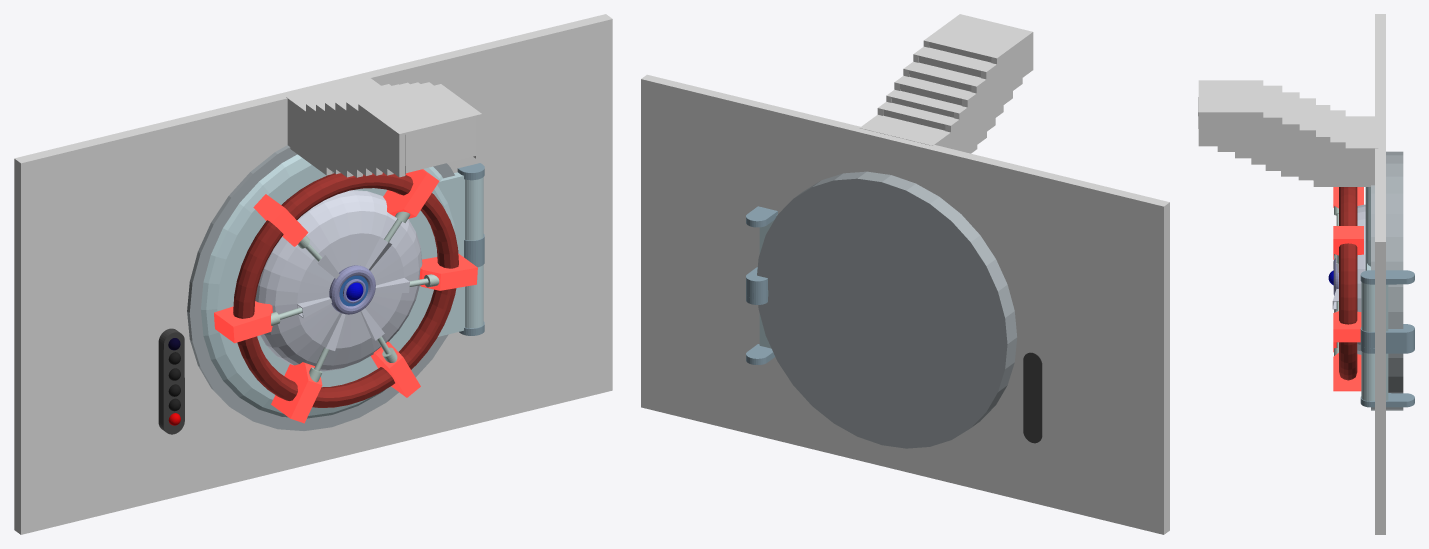
The model's file is Safe.fbx.
The picture shows the model from 3 angles, left to right: view 1: azimuth 30°, elevation 25°; view 2: azimuth 150°, elevation 25°; view 3: azimuth 270°, elevation 25°; orthographic projection. The views are drawn at different scales.
Parts seen in each view (by area): view 1: 立方体, 円柱, 円柱.003, Torus.001, 立方体.015, 円柱.014, 立方体.008, 円柱.013, 立方体.010, 立方体.014, 立方体.007, 立方体.003 (+11 smaller); view 2: 立方体, 円柱.014, 立方体.015, 立方体.013, 立方体.012, 立方体.008, 円柱.013, 立方体.014, 立方体.011, 立方体.010; view 3: 立方体, 円柱.014, 立方体.015, 立方体.008, Torus.001, 立方体.014, 立方体.010, 立方体.013, 立方体.012, 立方体.011, 円柱, 立方体.009 (+11 smaller).
Part boxes in pixels (left/top/right/bottom): 立方体: left=14, top=14, right=612, bottom=534; 円柱: left=255, top=190, right=422, bottom=371; 円柱.003: left=201, top=154, right=455, bottom=418; Torus.001: left=233, top=172, right=458, bottom=407; 立方体.015: left=358, top=84, right=481, bottom=177; 円柱.014: left=187, top=145, right=454, bottom=430; 立方体.008: left=286, top=76, right=380, bottom=175; 円柱.013: left=158, top=328, right=184, bottom=434; 立方体.010: left=306, top=84, right=391, bottom=177; 立方体.014: left=346, top=82, right=433, bottom=175; 立方体.007: left=437, top=172, right=464, bottom=336; 立方体.003: left=271, top=347, right=329, bottom=423; 立方体: left=641, top=74, right=1169, bottom=534; 円柱.014: left=757, top=171, right=1017, bottom=448; 立方体.015: left=923, top=14, right=1033, bottom=84; 立方体.013: left=903, top=60, right=1012, bottom=107; 立方体.012: left=894, top=75, right=1003, bottom=137; 立方体.008: left=860, top=114, right=968, bottom=152; 円柱.013: left=1023, top=352, right=1042, bottom=443; 立方体.014: left=913, top=46, right=1022, bottom=90; 立方体.011: left=886, top=89, right=995, bottom=144; 立方体.010: left=877, top=101, right=986, bottom=149; 立方体: left=1375, top=14, right=1385, bottom=534; 円柱.014: left=1371, top=151, right=1403, bottom=410; 立方体.015: left=1198, top=80, right=1263, bottom=146; 立方体.008: left=1313, top=116, right=1378, bottom=186; Torus.001: left=1339, top=187, right=1357, bottom=380; 立方体.014: left=1217, top=85, right=1282, bottom=151; 立方体.010: left=1281, top=110, right=1345, bottom=176; 立方体.013: left=1235, top=92, right=1299, bottom=158; 立方体.012: left=1251, top=98, right=1315, bottom=164; 立方体.011: left=1265, top=105, right=1330, bottom=170; 円柱: left=1332, top=204, right=1365, bottom=354; 立方体.009: left=1298, top=150, right=1363, bottom=180.
Bounding box in the file's own units: 10000 × 6743 × 4021.
